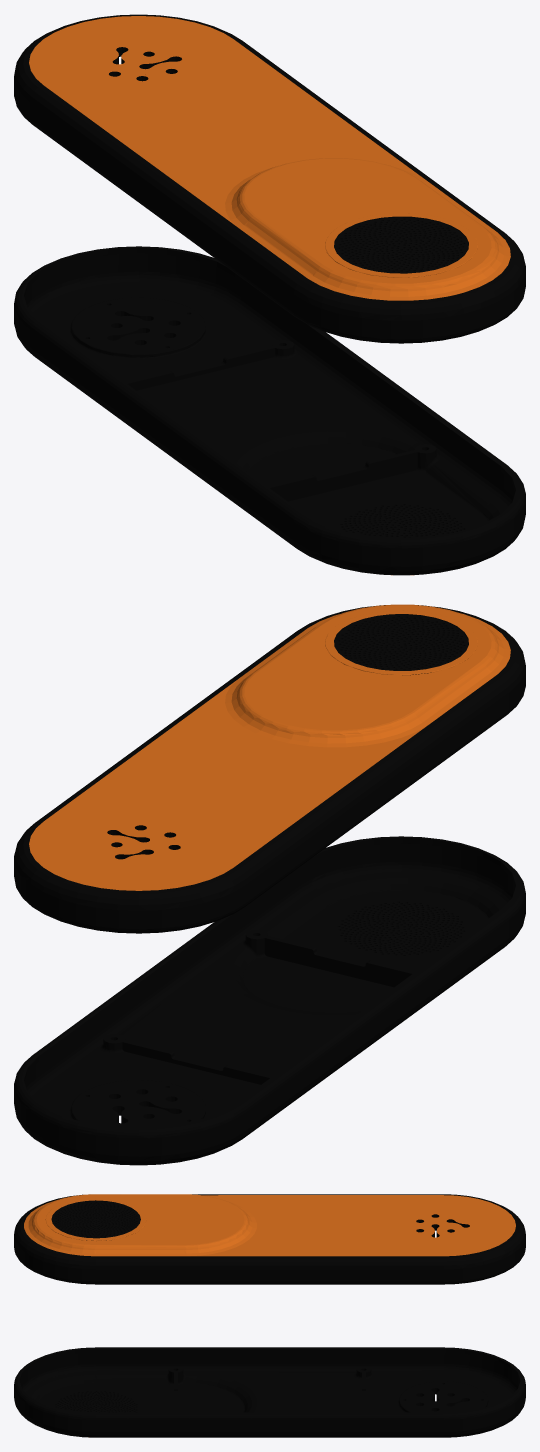
3 views of the same model, one above another, from view 1: azimuth 30°, elevation 25°; view 2: azimuth 150°, elevation 25°; view 3: azimuth 270°, elevation 25° (orthographic). The views are drawn at different scales.
Visible parts, largest first — view 1: Link3; view 2: Link3; view 3: Link3.
Part boxes in pixels (box(x1,y1,x2,y2)): Link3: box(14, 14, 525, 575); Link3: box(14, 604, 525, 1165); Link3: box(14, 1194, 525, 1437).
Bounding box in the file's own units: 0.1663 × 0.2153 × 0.5171.
